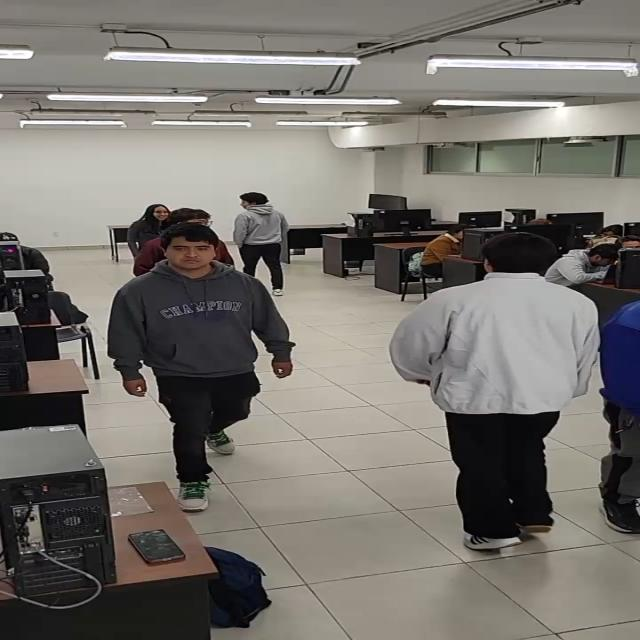Persona: (388, 227, 600, 557), (109, 219, 293, 512), (236, 187, 299, 300)
